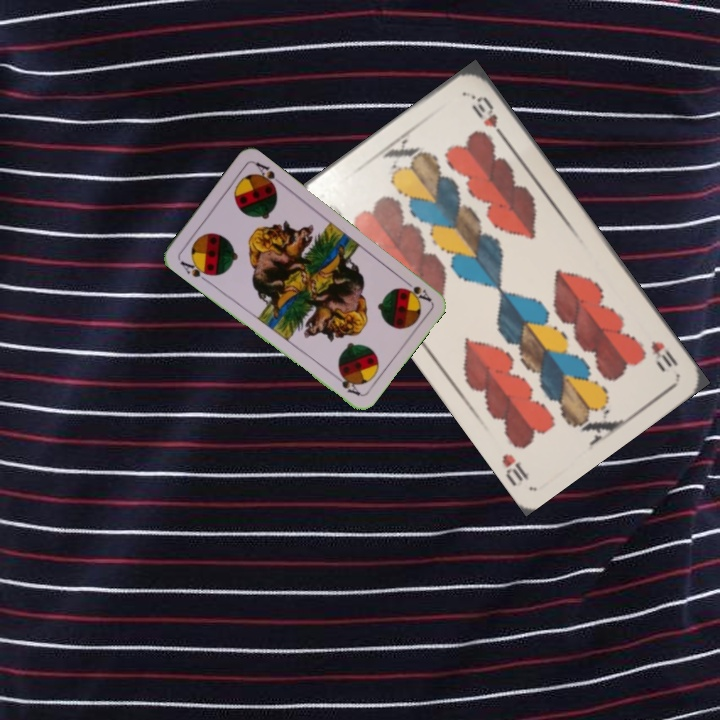H10: (647, 336, 681, 375)
SA: (176, 255, 214, 285), (399, 275, 434, 304)
